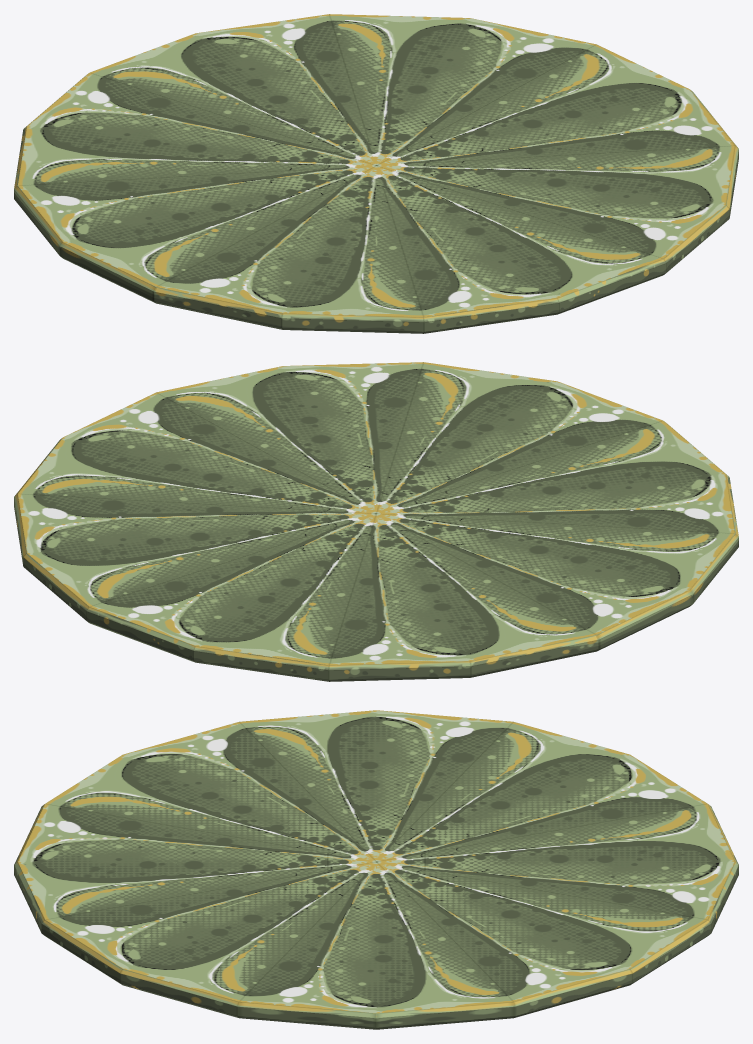
File: GreenLilyPads-mockup001.fbx
The picture shows the model from 3 angles, top to bottom: view 1: azimuth 30°, elevation 25°; view 2: azimuth 150°, elevation 25°; view 3: azimuth 270°, elevation 25°; orthographic projection.
Parts seen in each view (by area): view 1: Cylinder; view 2: Cylinder; view 3: Cylinder.
Part boxes in pixels (box(x1,y1,x2,y2)): Cylinder: box(14, 14, 738, 333); Cylinder: box(14, 362, 738, 681); Cylinder: box(14, 710, 738, 1029).
Size of the model in its own units: 4000 by 99.46 by 4000.
